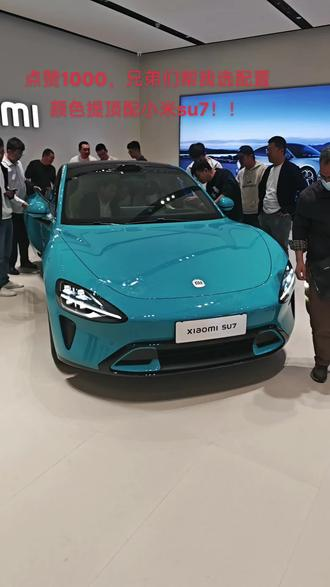su7: (29, 152, 295, 379)
